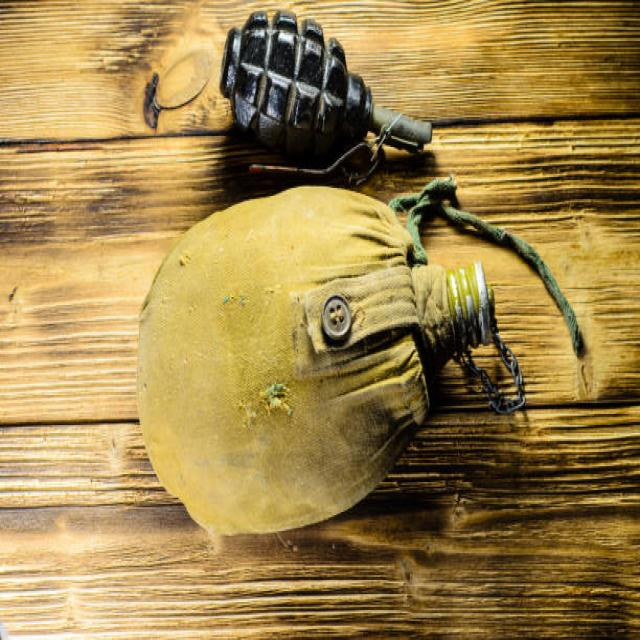grenade: (215, 6, 437, 190)
